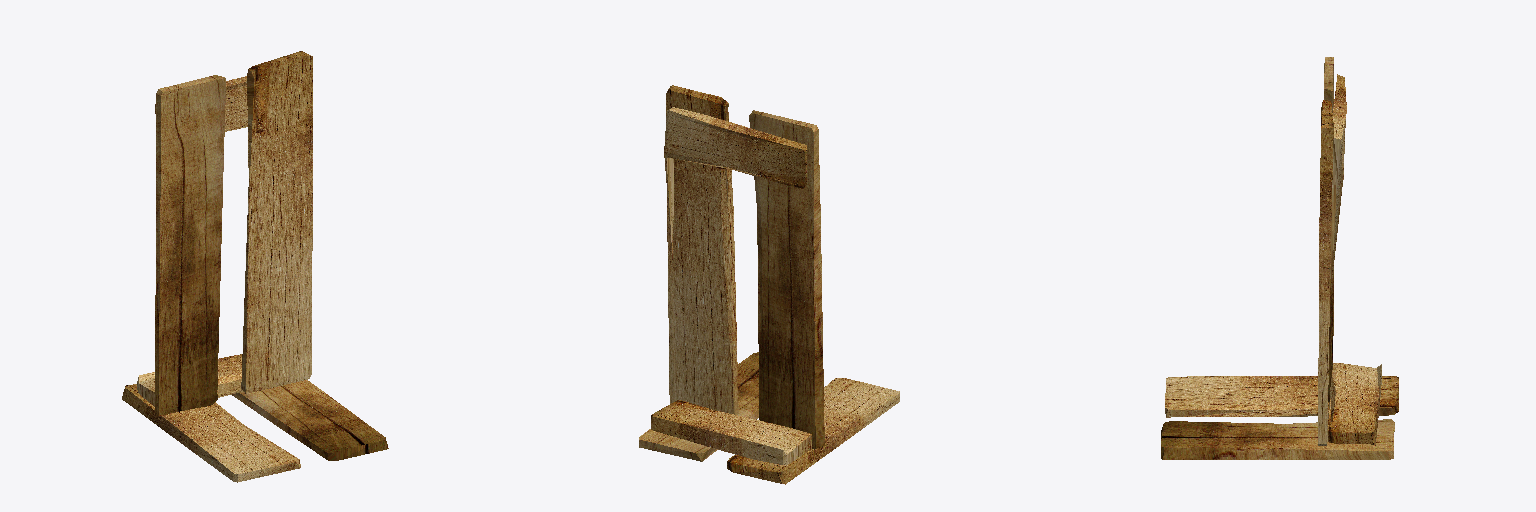
3 renders of one model, left to right at view 1: azimuth 30°, elevation 25°; view 2: azimuth 150°, elevation 25°; view 3: azimuth 270°, elevation 25°, orthographic.
Visible parts, largest first — view 1: stand_2_Cube.001; view 2: stand_2_Cube.001; view 3: stand_2_Cube.001.
Boxes of the visible parts, x1=… form: stand_2_Cube.001: x1=122, y1=51, x2=388, y2=482; stand_2_Cube.001: x1=639, y1=85, x2=899, y2=484; stand_2_Cube.001: x1=1161, y1=57, x2=1398, y2=459.
Bounding box in the file's own units: 113 × 234 × 151.
1 materials, 1 textured.